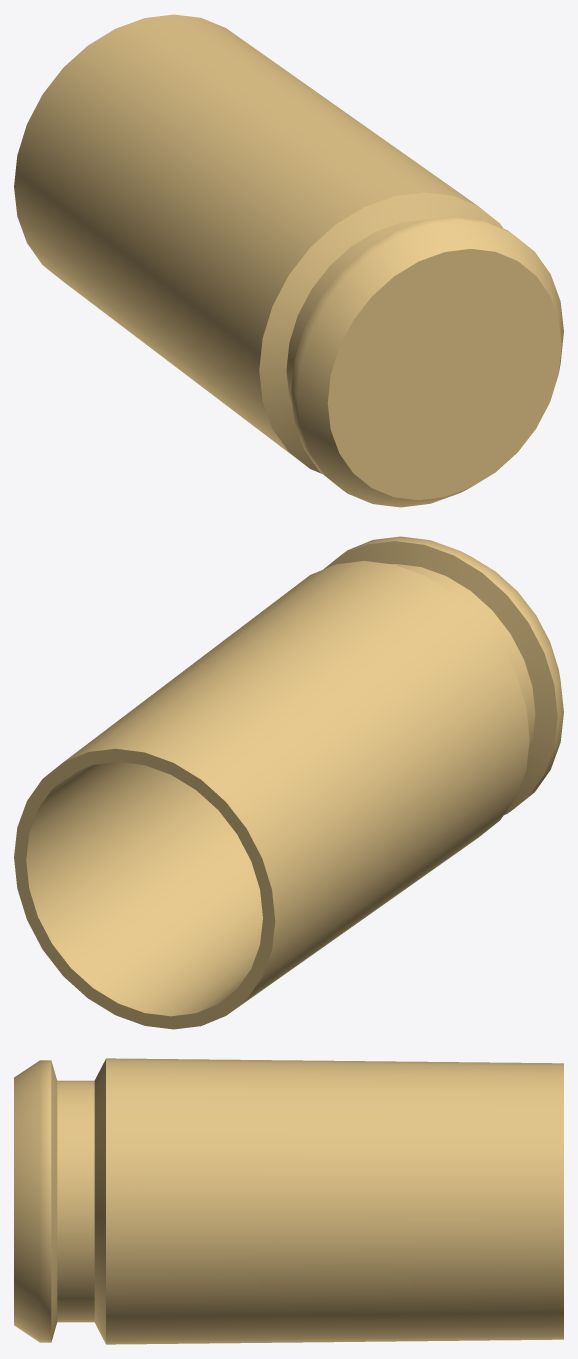
The model's file is casing.fbx.
3 renders of one model, top to bottom at view 1: azimuth 30°, elevation 25°; view 2: azimuth 150°, elevation 25°; view 3: azimuth 270°, elevation 25°, orthographic. The views are drawn at different scales.
Visible parts, largest first — view 1: weapon_casing; view 2: weapon_casing; view 3: weapon_casing.
Boxes of the visible parts, bbox=[...] form: weapon_casing: bbox=[14, 14, 563, 507]; weapon_casing: bbox=[14, 536, 563, 1029]; weapon_casing: bbox=[14, 1058, 563, 1344].
Size of the model in its own units: 0.994 by 0.994 by 1.91.
